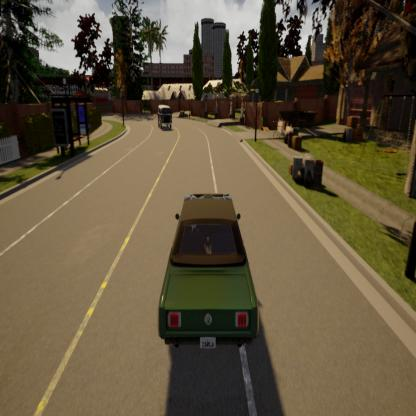Cars: (152, 147, 268, 367), (152, 97, 180, 140)
